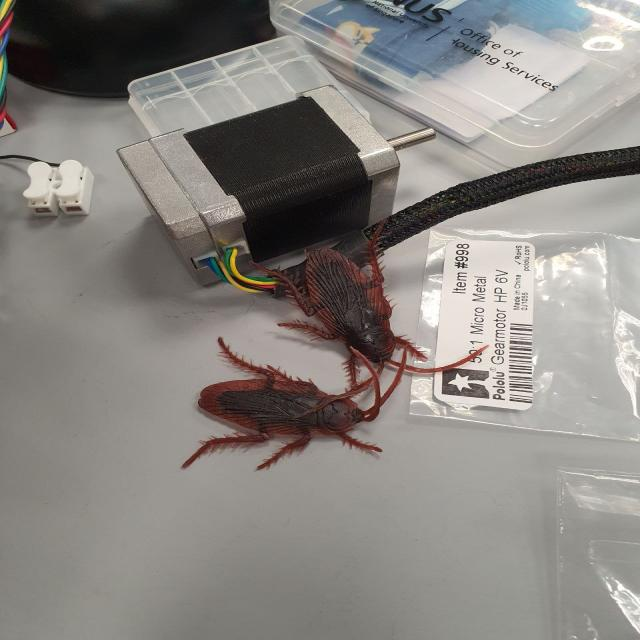Cockroach: (224, 212, 494, 390), (174, 340, 410, 478)
